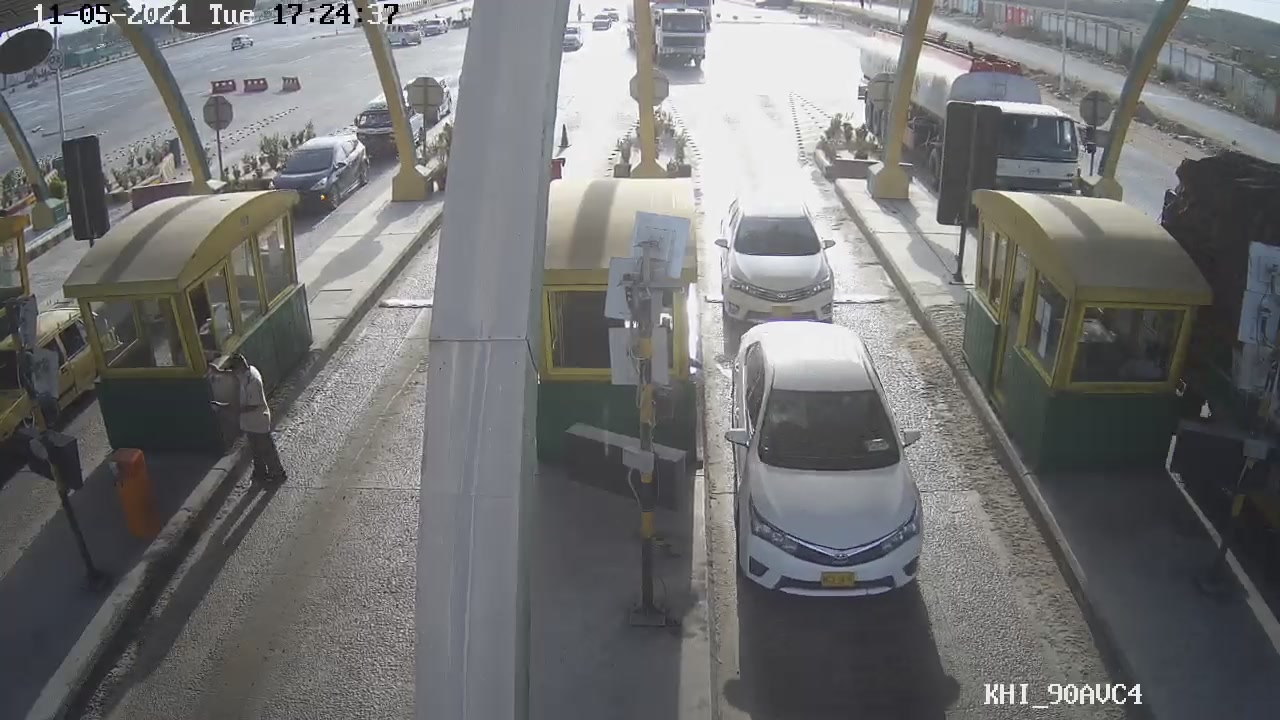F1: (716, 320, 939, 598)
